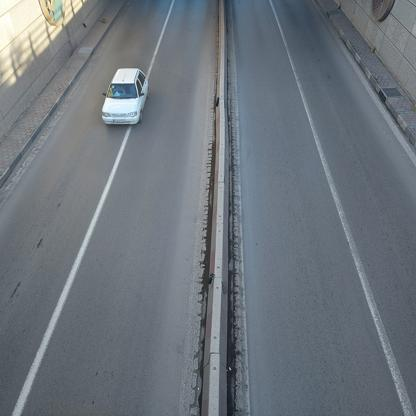Car: (100, 66, 156, 128)
